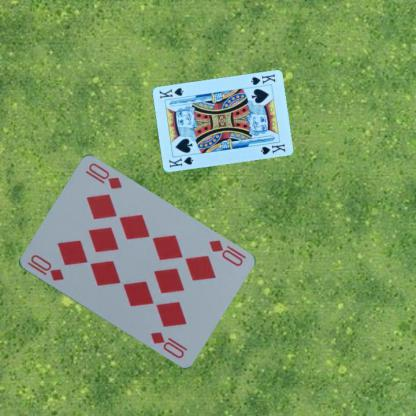10d: (25, 250, 65, 282), (206, 238, 244, 268)
Ks: (166, 154, 194, 170), (248, 72, 276, 86)
